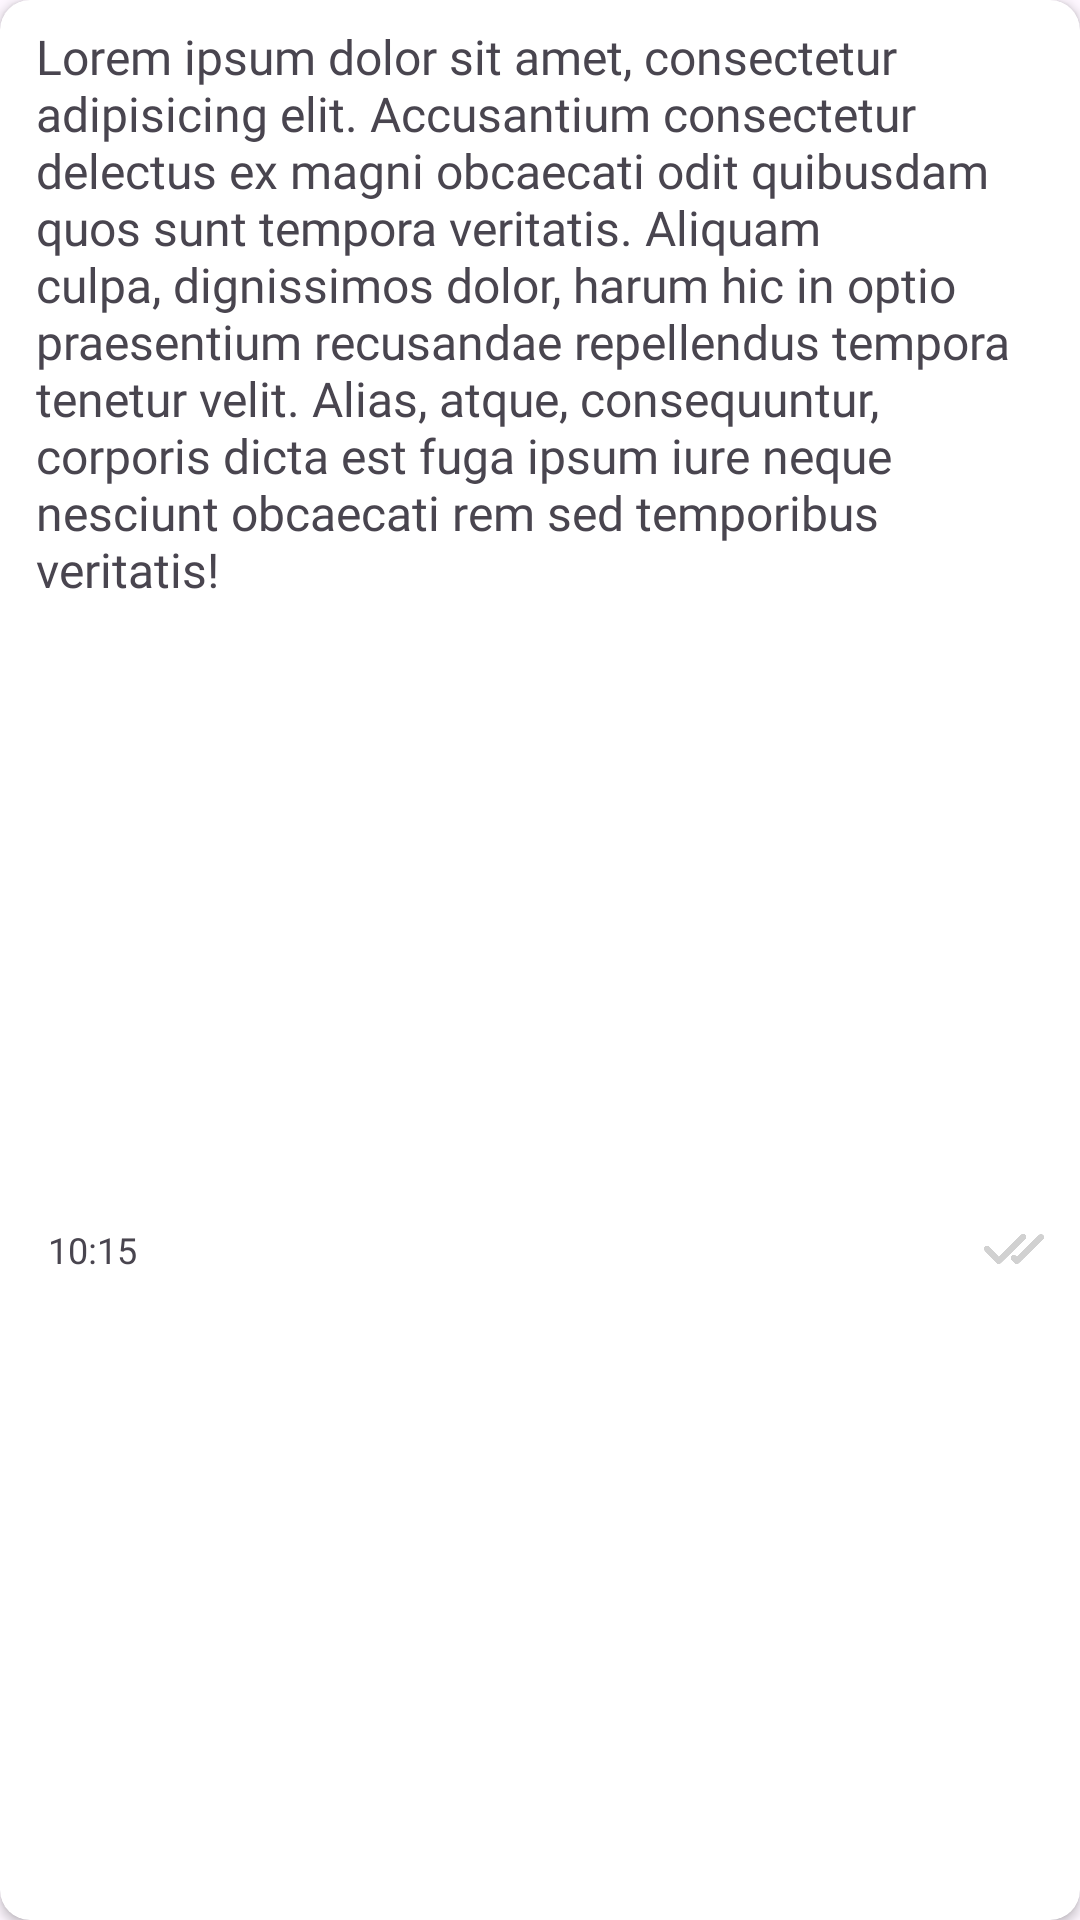

Screen size 1080 x 1920. Icon name, then its box in pixels as (x1, y1, x2, y2):
double check: (984, 1234, 1044, 1264)
